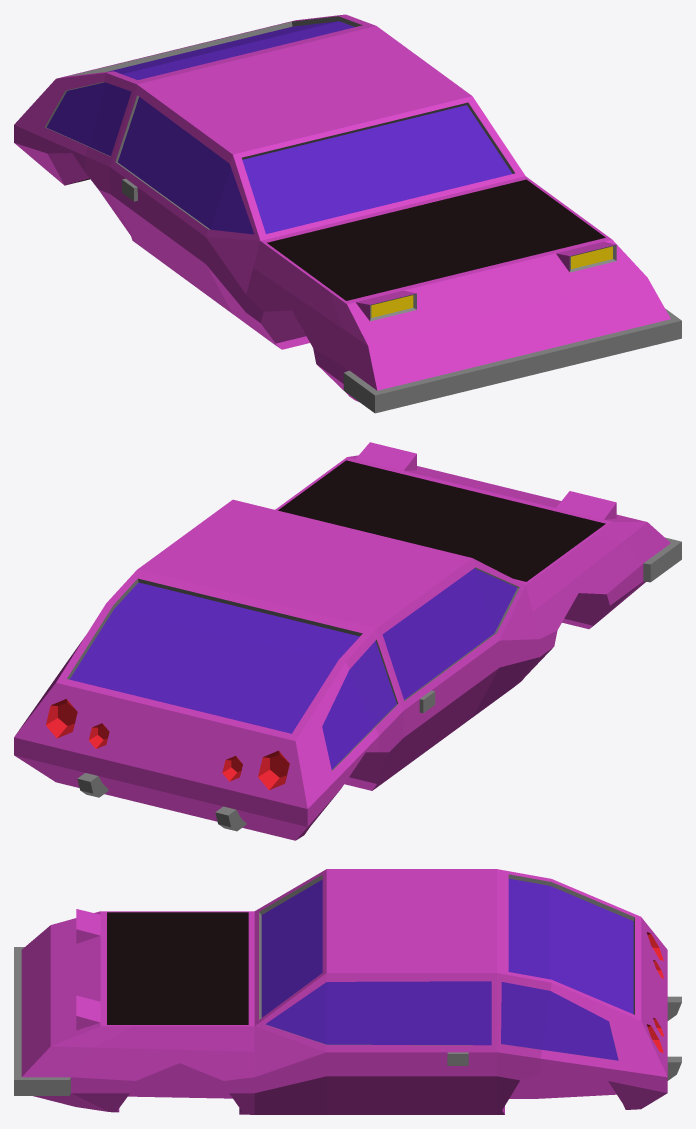
Rendered from JPNCarP.fbx.
3 views of the same model, one above another, from view 1: azimuth 30°, elevation 25°; view 2: azimuth 150°, elevation 25°; view 3: azimuth 270°, elevation 25° (orthographic). The views are drawn at different scales.
Parts seen in each view (by area): view 1: Cube.003; view 2: Cube.003; view 3: Cube.003.
Part boxes in pixels (x1,y1,x2,y2): Cube.003: (14,14,681,413); Cube.003: (14,442,681,840); Cube.003: (14,869,681,1114).
Bounding box in the file's own units: 200 × 99.33 × 424.
